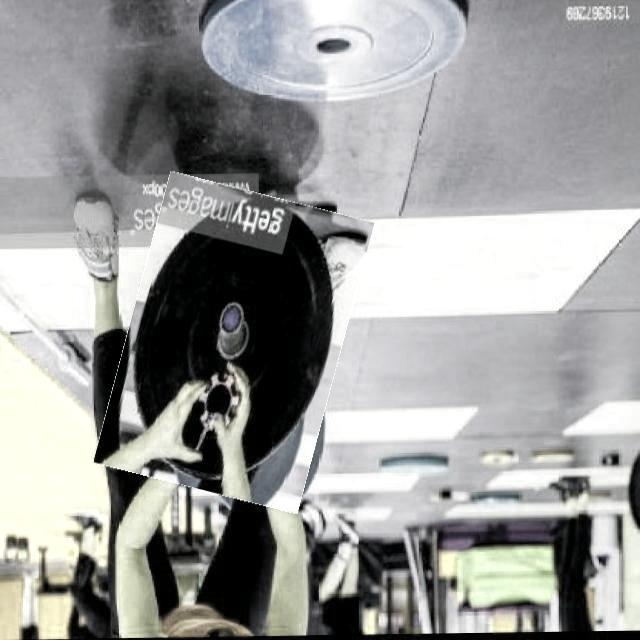barbell: (113, 181, 359, 505)
